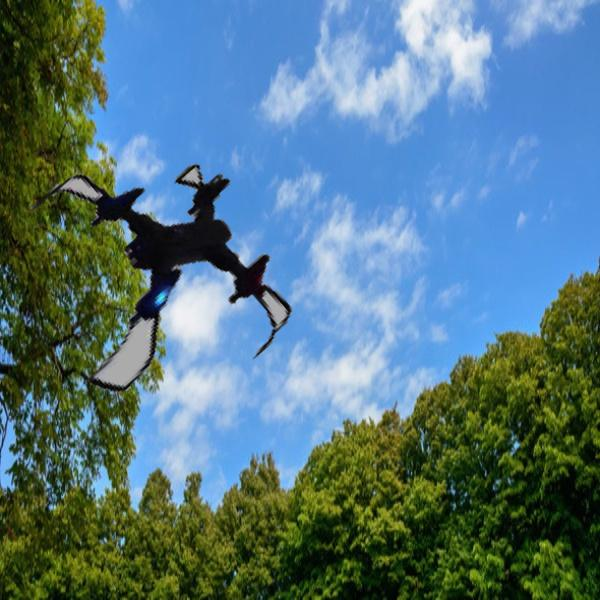drone: (6, 139, 286, 419)
